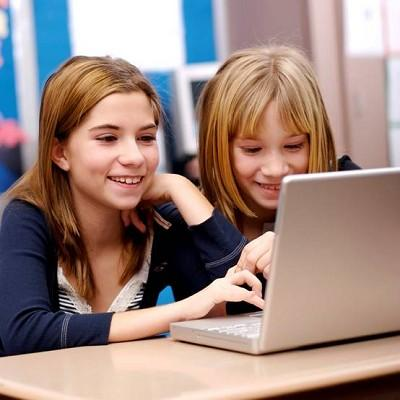person: (2, 57, 266, 359)
